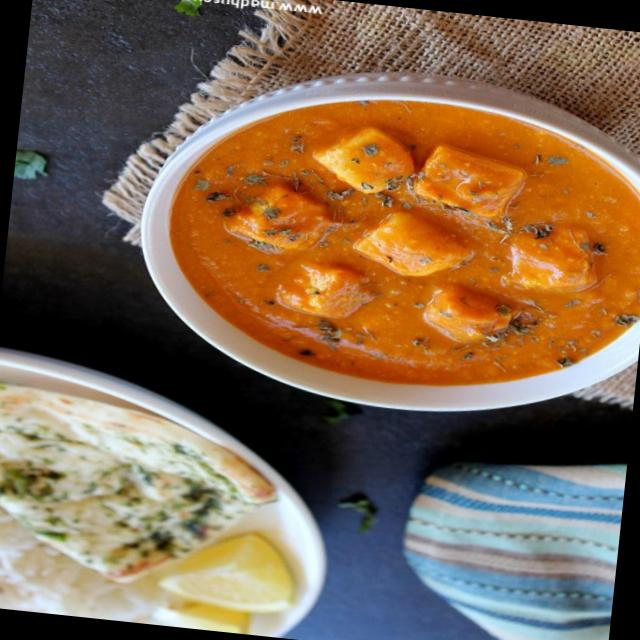rice: (0, 538, 86, 610)
roti: (1, 408, 196, 547)
